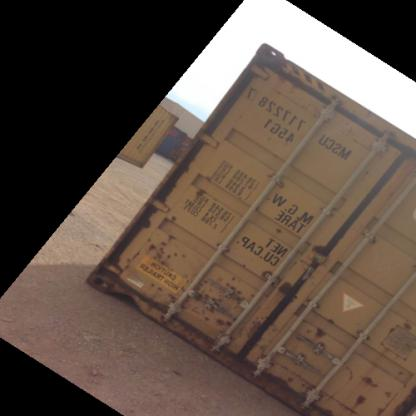Damage: (191, 274, 257, 328), (145, 232, 188, 272), (272, 362, 309, 400), (146, 277, 181, 317), (106, 245, 144, 272), (314, 315, 343, 340), (305, 240, 331, 264), (257, 264, 281, 287), (210, 240, 237, 259), (386, 313, 410, 333), (241, 77, 260, 101), (137, 210, 158, 230), (348, 389, 369, 408), (359, 372, 380, 390), (192, 184, 210, 200), (169, 207, 183, 224), (344, 362, 356, 381), (272, 223, 286, 238), (383, 386, 396, 400)
